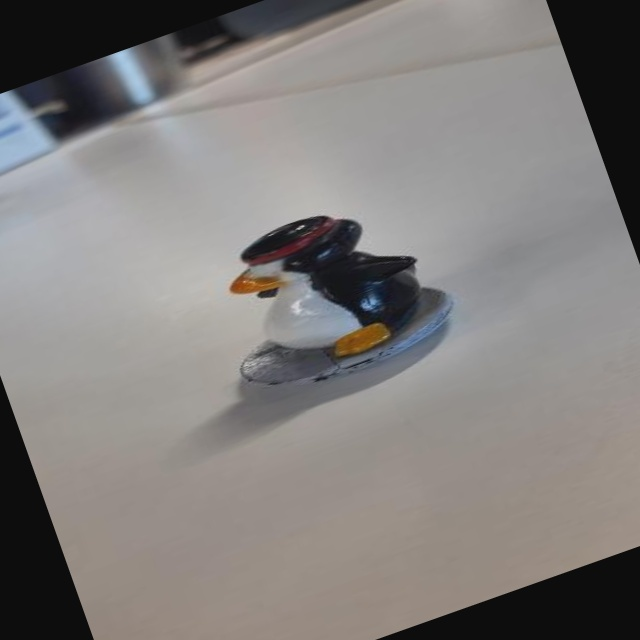Penguin: (92, 167, 476, 473)
